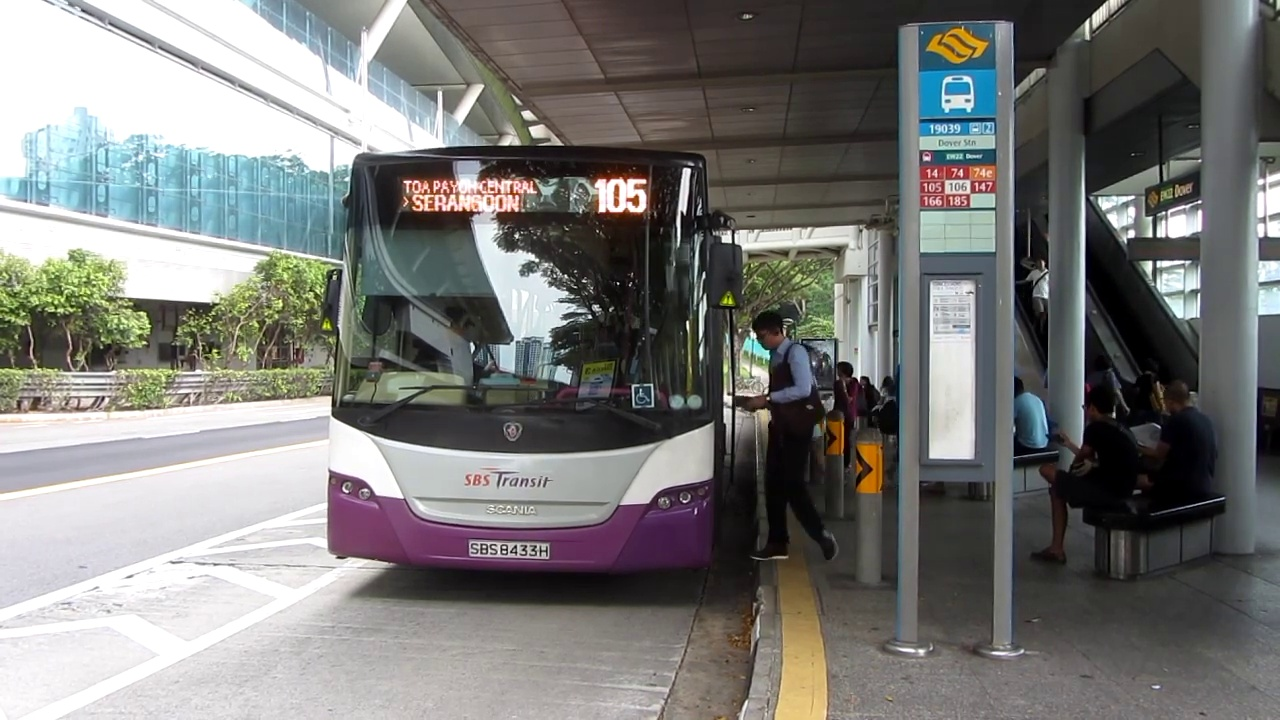bus panel: (397, 176, 653, 215)
